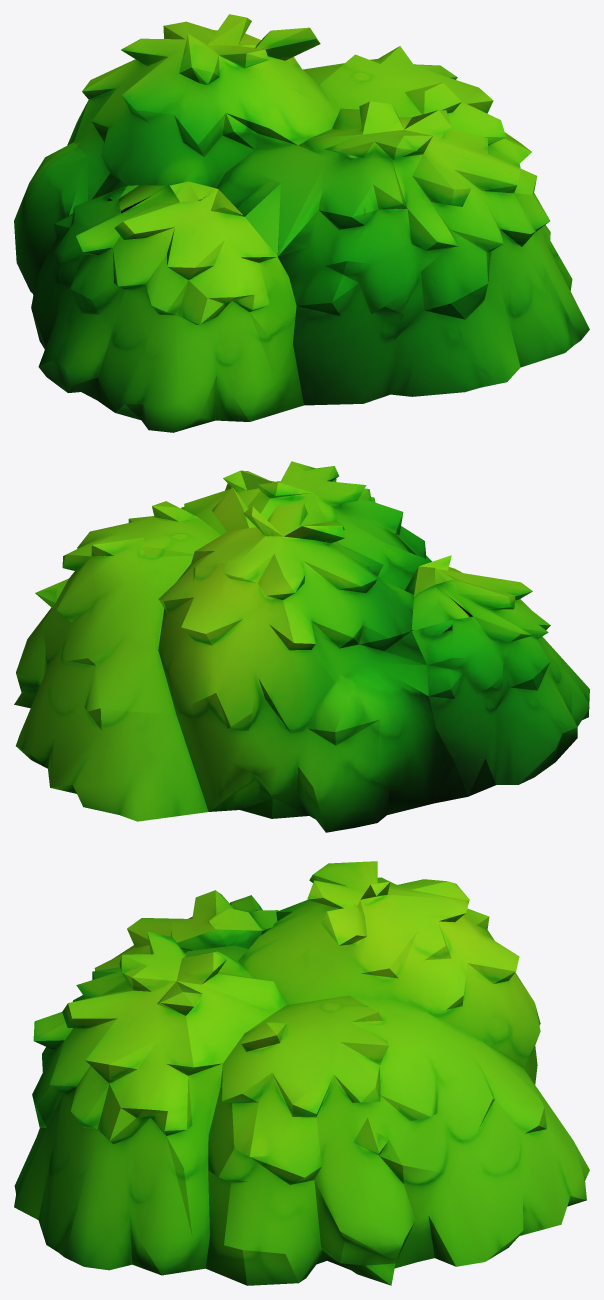
The model's file is bushes_01.fbx.
3 views of the same model, one above another, from view 1: azimuth 30°, elevation 25°; view 2: azimuth 150°, elevation 25°; view 3: azimuth 270°, elevation 25° (orthographic). The views are drawn at different scales.
Visible parts, largest first — view 1: fantasy_tree2; view 2: fantasy_tree2; view 3: fantasy_tree2.
Part boxes in pixels (x1,y1,x2,y2): fantasy_tree2: [14, 14, 589, 432]; fantasy_tree2: [14, 461, 589, 832]; fantasy_tree2: [14, 861, 589, 1285].
Bounding box in the file's own units: 66.36 × 32.86 × 62.11.
Materials: 1 (1 with a texture image).
